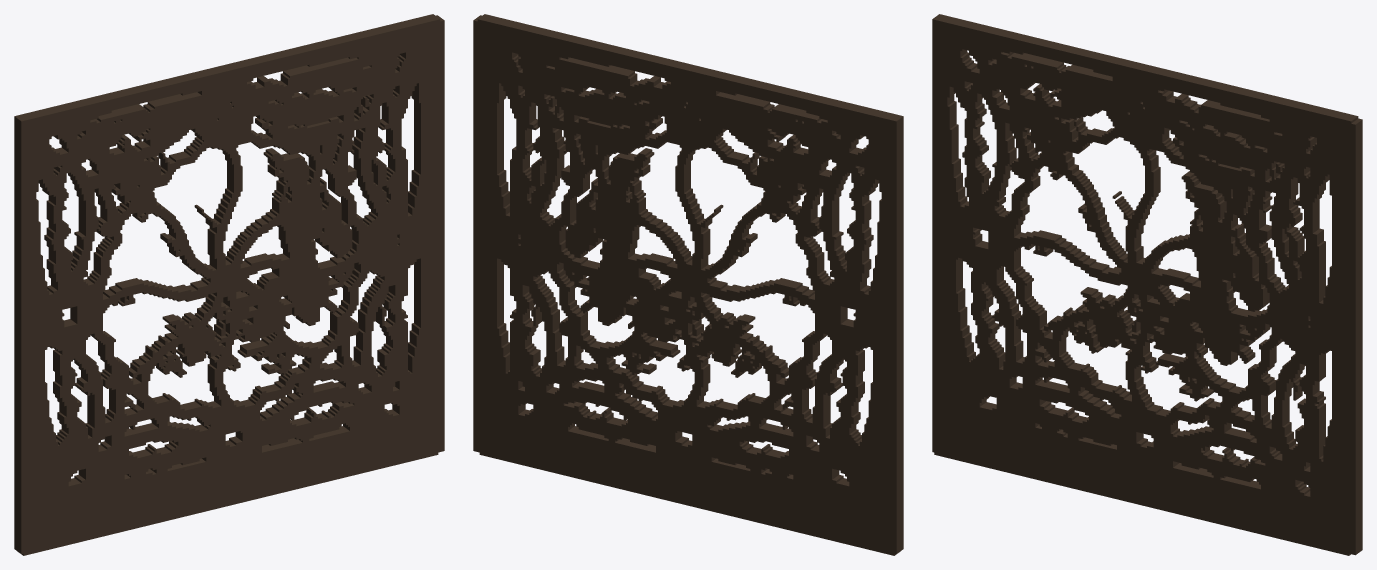
The model's file is lattice_window.glb.
The picture shows the model from 3 angles, left to right: view 1: azimuth 30°, elevation 25°; view 2: azimuth 150°, elevation 25°; view 3: azimuth 330°, elevation 25°; orthographic projection.
Parts seen in each view (by area): view 1: Lattice_Silhouette; view 2: Lattice_Silhouette; view 3: Lattice_Silhouette.
Boxes of the visible parts, x1=… form: Lattice_Silhouette: x1=14, y1=14, x2=444, y2=555; Lattice_Silhouette: x1=473, y1=14, x2=903, y2=555; Lattice_Silhouette: x1=932, y1=14, x2=1362, y2=555.
Size of the model in its own units: 1.5 by 1.47 by 0.0439.
